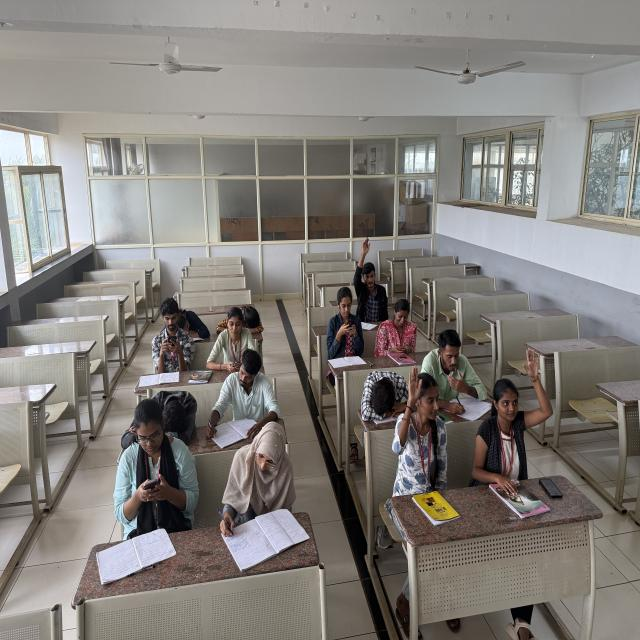Hand Rising: (464, 340, 562, 523), (384, 364, 474, 512), (352, 228, 393, 323)
Sleeping: (352, 362, 408, 431)
Using Phone: (107, 396, 201, 536), (311, 282, 365, 368), (148, 289, 202, 371)
Writing: (219, 422, 314, 563), (416, 316, 496, 419), (207, 347, 284, 449)
